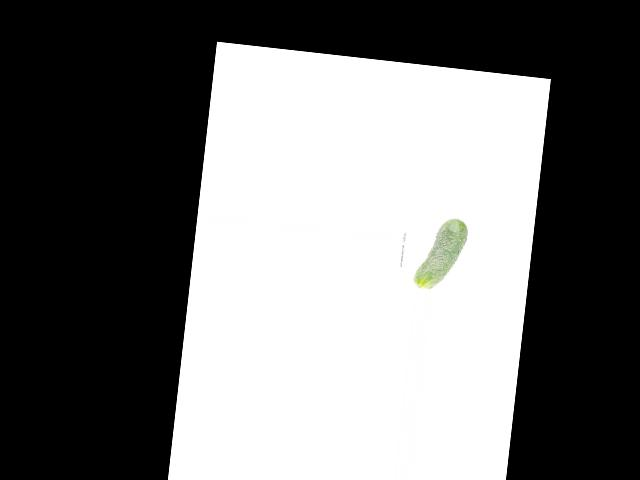cucumber: (412, 214, 469, 292)
